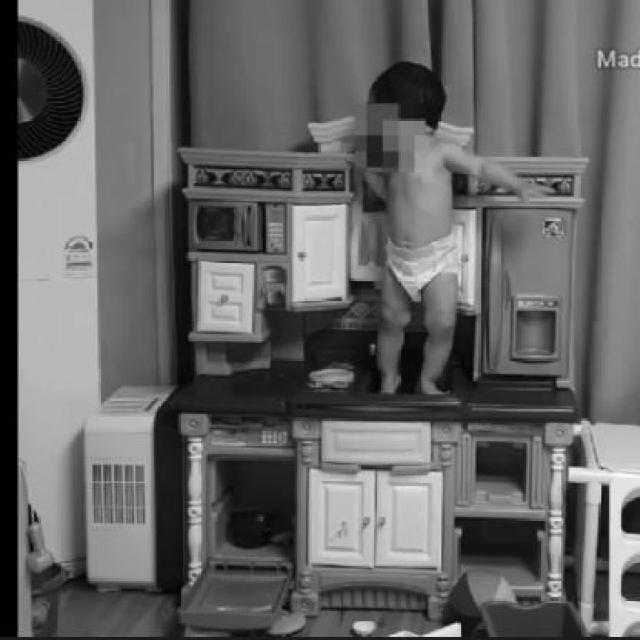child: (325, 54, 536, 396)
